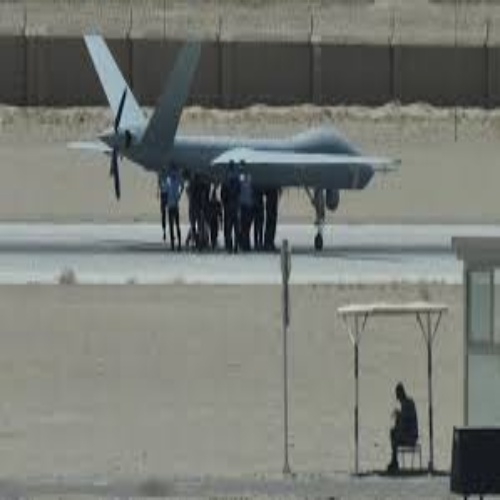uav48: (65, 36, 401, 207)
